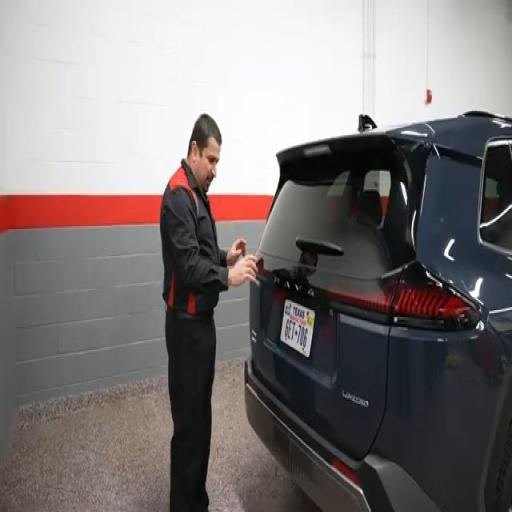bumper: (244, 357, 438, 511)
taillight: (329, 264, 479, 329)
tire: (485, 387, 511, 511)
trunk: (250, 137, 411, 459)
window: (260, 151, 408, 278), (480, 140, 511, 251)
